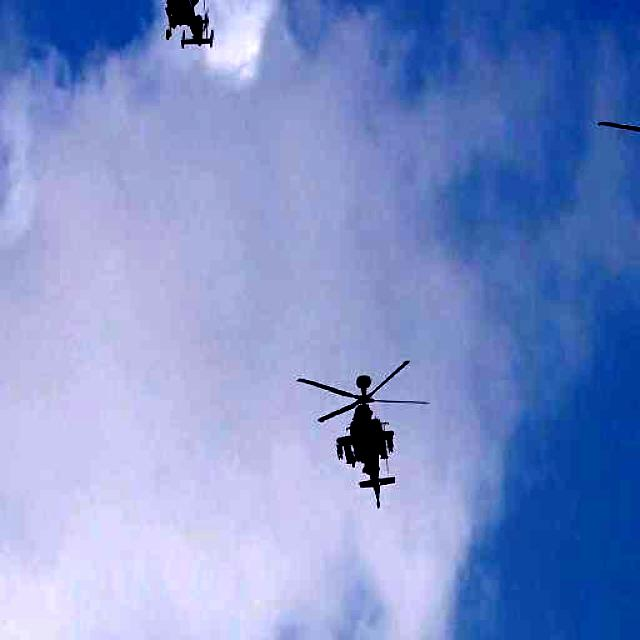drone: (299, 350, 432, 514), (582, 49, 640, 251), (111, 0, 256, 66)
